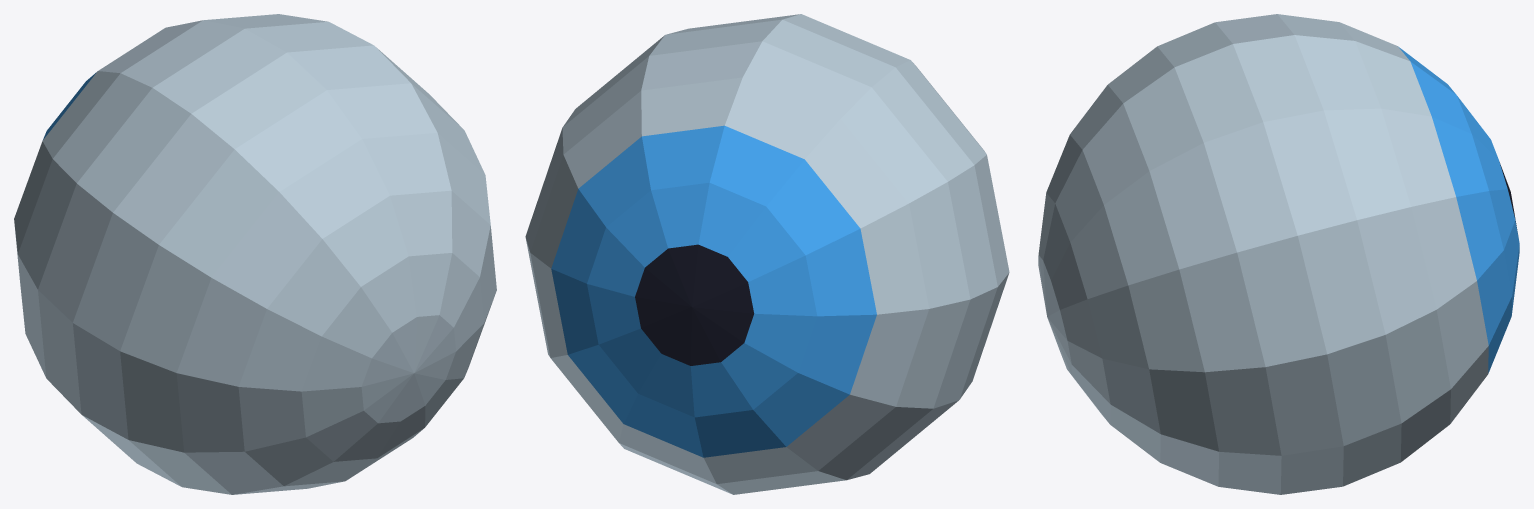
Rendered from CreepyPeeper.001.fbx.
3 renders of one model, left to right at view 1: azimuth 30°, elevation 25°; view 2: azimuth 150°, elevation 25°; view 3: azimuth 270°, elevation 25°, orthographic.
Parts seen in each view (by area): view 1: CreepyPeeper.001; view 2: CreepyPeeper.001; view 3: CreepyPeeper.001.
Part boxes in pixels (x1,y1,x2,y2): CreepyPeeper.001: (14,14,496,494); CreepyPeeper.001: (525,14,1009,494); CreepyPeeper.001: (1038,14,1519,494).
Bounding box in the file's own units: 22.35 × 22.36 × 22.36.
